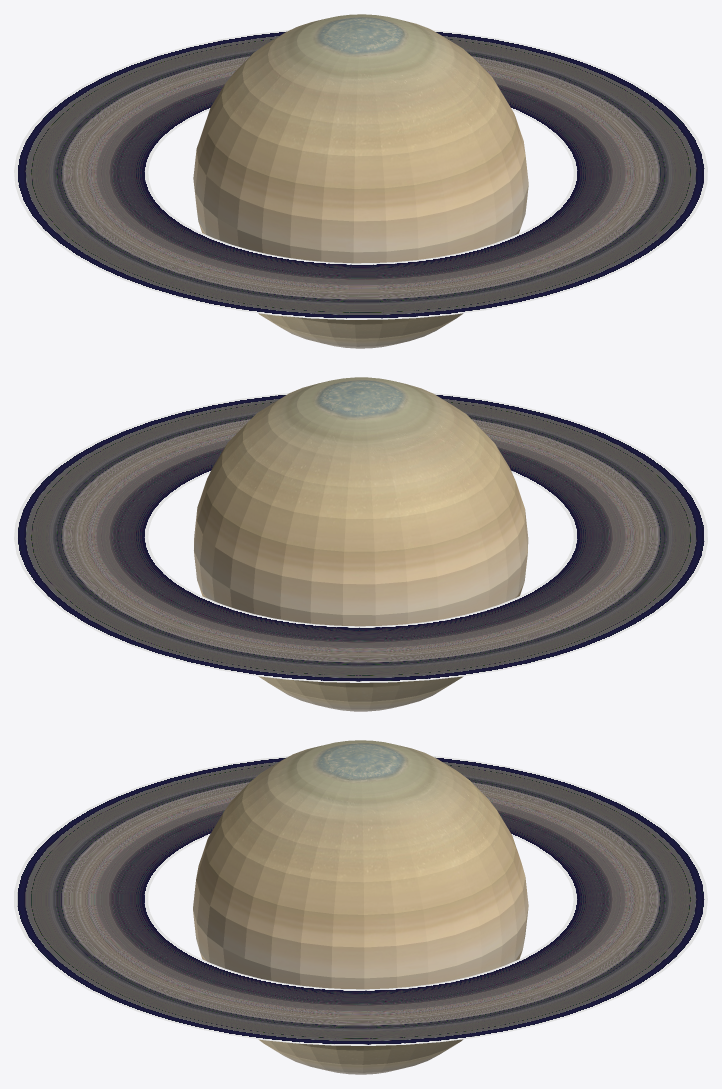
The model's file is saturn.obj.
3 views of the same model, one above another, from view 1: azimuth 30°, elevation 25°; view 2: azimuth 150°, elevation 25°; view 3: azimuth 270°, elevation 25° (orthographic).
Parts seen in each view (by area): view 1: Sphere; view 2: Sphere; view 3: Sphere.
Boxes of the visible parts, bbox=[...] form: Sphere: bbox=[14, 14, 707, 348]; Sphere: bbox=[14, 377, 707, 711]; Sphere: bbox=[14, 740, 707, 1074].
Size of the model in its own units: 4.13 by 2 by 4.13.
2 materials, 2 textured.
